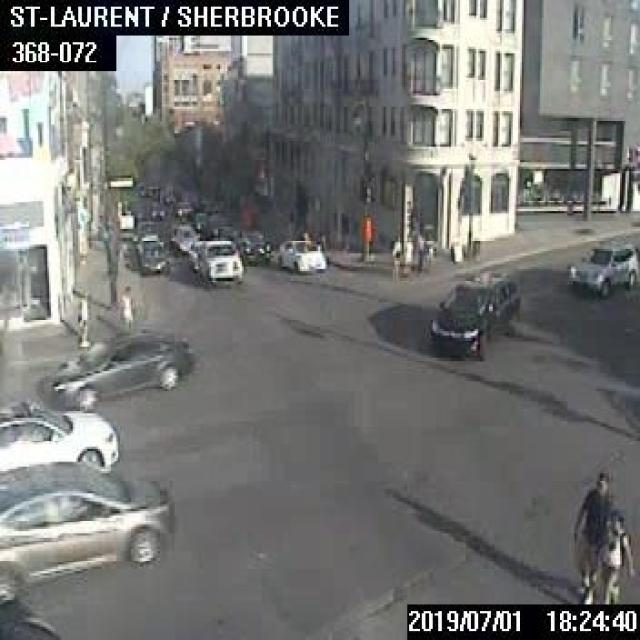pedestrian: (571, 469, 612, 600), (596, 508, 634, 602), (69, 284, 89, 344), (116, 283, 132, 333), (389, 234, 400, 274), (402, 234, 411, 274), (424, 232, 433, 266)
vehicle: (0, 461, 173, 601), (38, 329, 189, 413), (0, 398, 118, 476), (431, 267, 516, 353), (564, 240, 638, 293), (0, 598, 58, 638), (196, 237, 244, 284), (276, 236, 325, 271), (237, 229, 270, 263), (137, 239, 167, 274), (170, 225, 200, 255), (188, 236, 208, 271)
